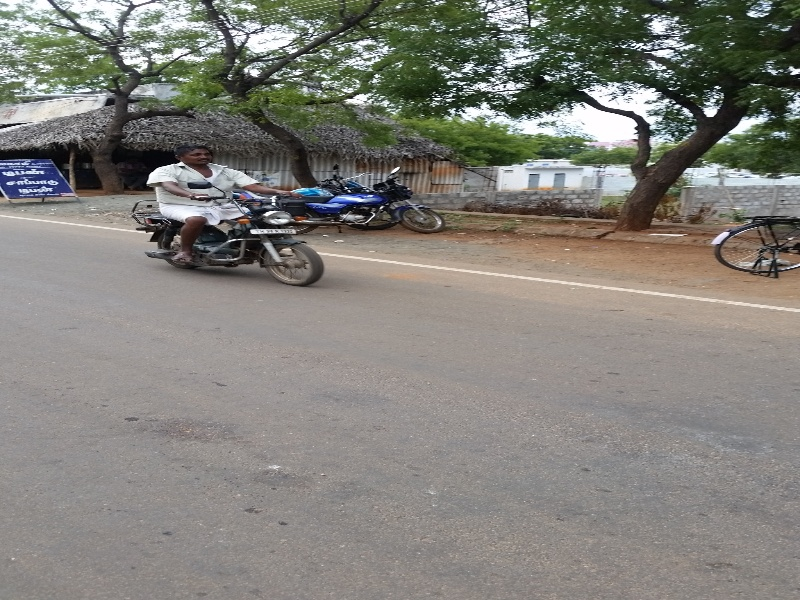biker: (101, 100, 345, 305)
nohelmet: (176, 137, 223, 177)
